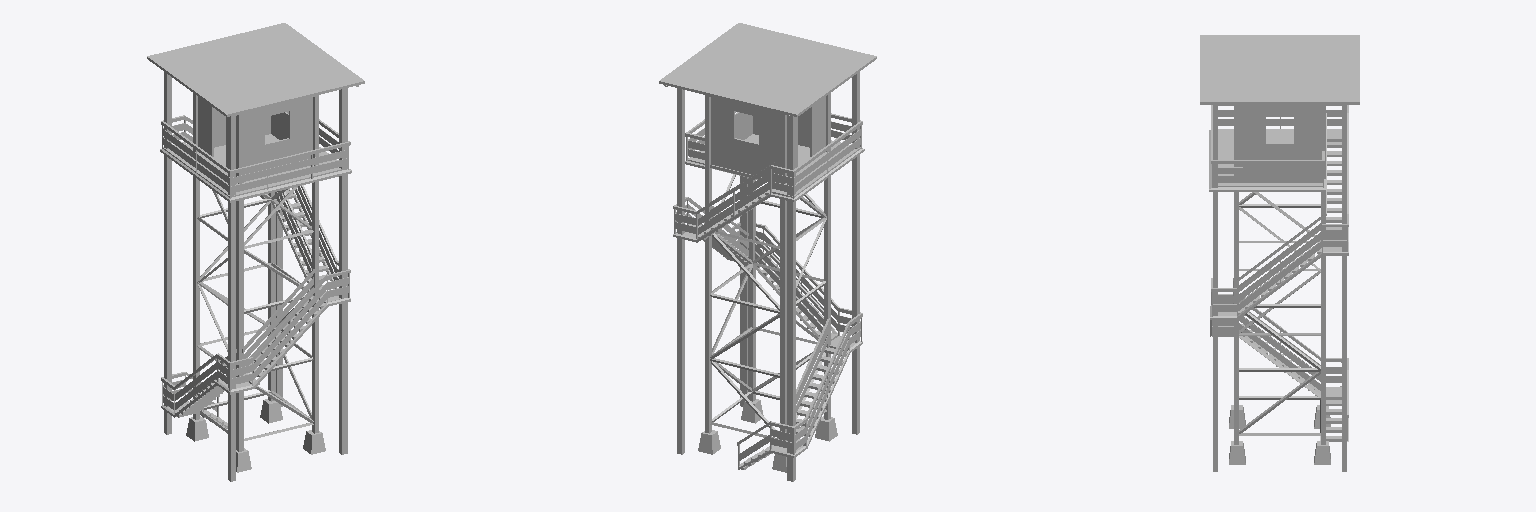
File: wooden watch tower.obj
3 renders of one model, left to right at view 1: azimuth 30°, elevation 25°; view 2: azimuth 150°, elevation 25°; view 3: azimuth 270°, elevation 25°, orthographic.
Visible parts, largest first — view 1: default; view 2: default; view 3: default.
Part boxes in pixels (x1,y1,x2,y2): default: (147,23,364,481); default: (659,23,876,481); default: (1200,35,1359,471).
Size of the model in its own units: 5.91 by 15.3 by 5.91.